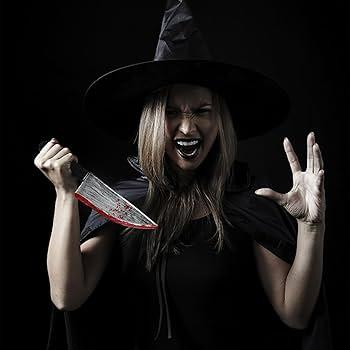Knife: (35, 0, 327, 350), (74, 170, 159, 231), (35, 136, 82, 187)
